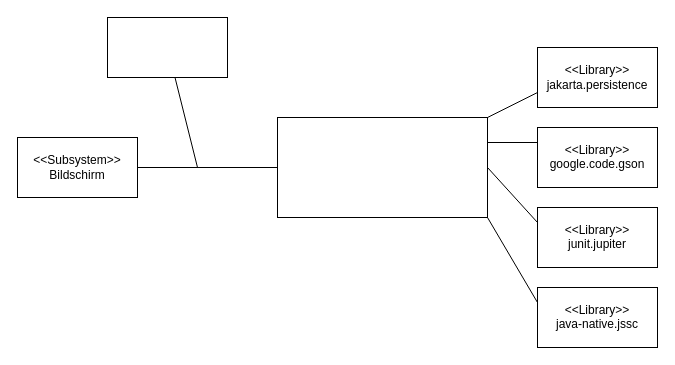
Image size: 675x365. Some labels were removed from this diagram. Each missing label, with the centre of its shape:
"<<Library>> OpenJFX" belongs at (x=167, y=47).
"<<System>> Umweltbelastungspunkte" belongs at (x=382, y=167).
